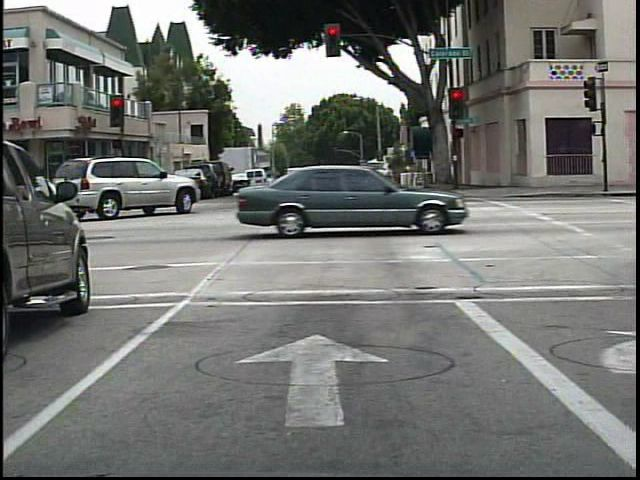person: (309, 159, 338, 204)
